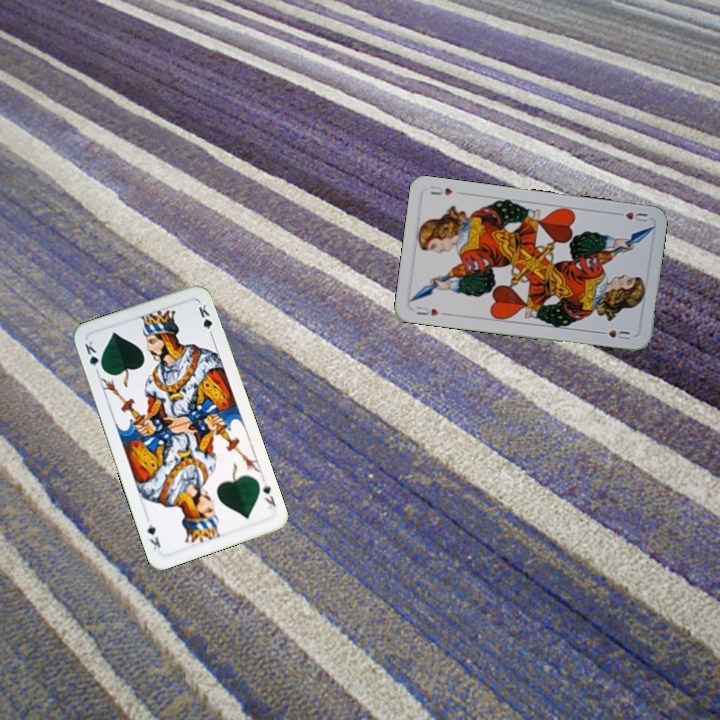GK: (80, 337, 106, 376), (259, 479, 278, 512)
HU: (412, 302, 449, 319), (611, 208, 650, 224)
